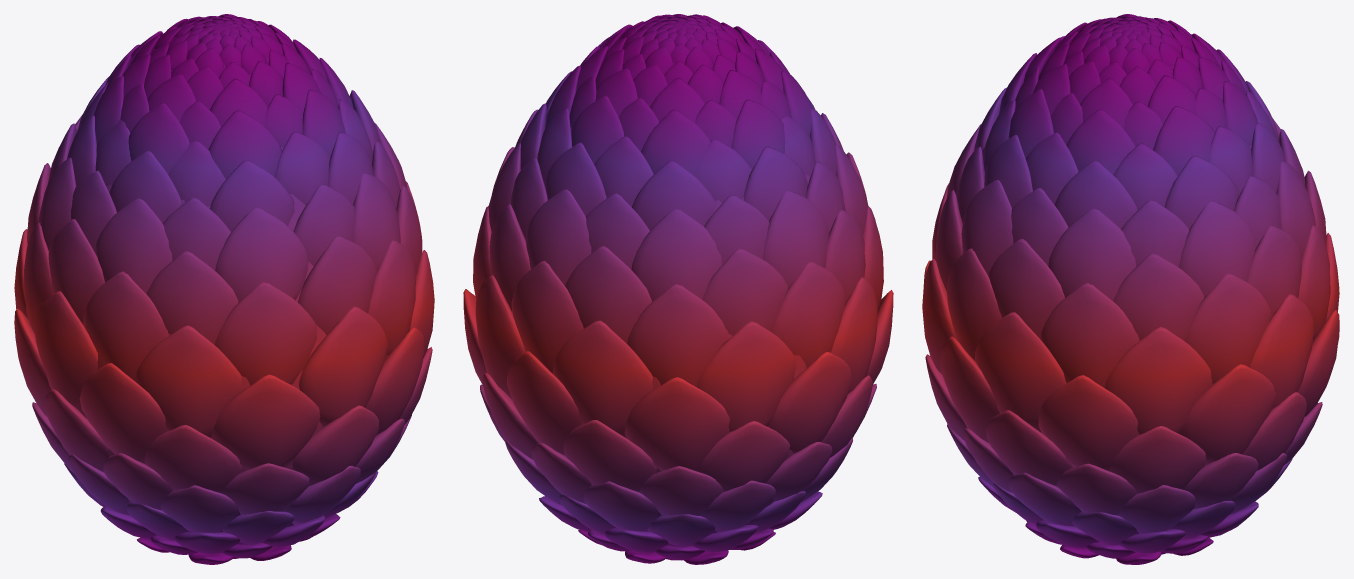
File: ejder_yumurtasi.fbx
The picture shows the model from 3 angles, left to right: view 1: azimuth 30°, elevation 25°; view 2: azimuth 150°, elevation 25°; view 3: azimuth 270°, elevation 25°; orthographic projection.
Visible parts, largest first — view 1: ejder_yumurtasi; view 2: ejder_yumurtasi; view 3: ejder_yumurtasi.
Part boxes in pixels (x1=…): ejder_yumurtasi: x1=14, y1=14, x2=434, y2=564; ejder_yumurtasi: x1=463, y1=14, x2=893, y2=564; ejder_yumurtasi: x1=922, y1=14, x2=1339, y2=564.
Bounding box in the file's own units: 117 × 159 × 116.
Materials: 1 (1 with a texture image).
